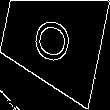O_W: (28, 14, 76, 68)
